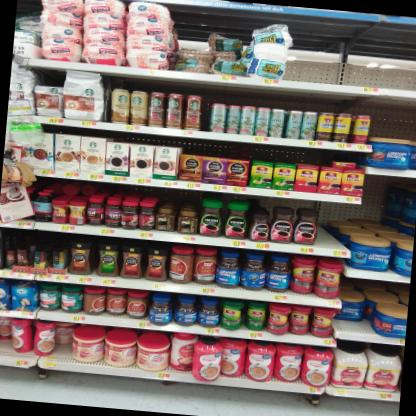empty_space: (344, 51, 416, 92), (282, 46, 340, 85), (368, 99, 416, 142)
